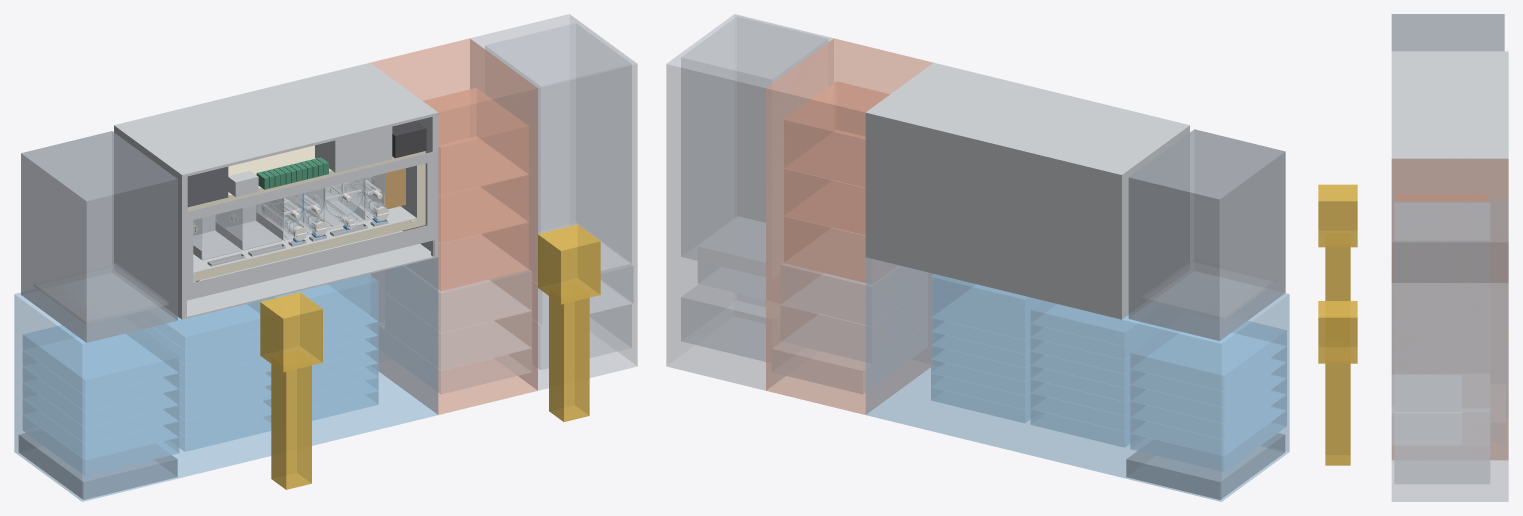
File: hat_v8.glb
The picture shows the model from 3 angles, left to right: view 1: azimuth 30°, elevation 25°; view 2: azimuth 150°, elevation 25°; view 3: azimuth 270°, elevation 25°; orthographic projection. The views are drawn at different scales.
Visible parts, largest first — view 1: B_KABIN, TOPPING_MODUL__sac, D_KABIN, E_KABIN, PRESS, E_SARJOR, FIRIN_3, CEK_K1_hamur_6, B_SOGUTMA, ROBOT_2, ROBOT_1, TOPPING_MODUL__pu (+41 smaller); view 2: B_KABIN, TOPPING_MODUL__sac, D_KABIN, E_KABIN, PRESS, E_SARJOR, FIRIN_3, CEK_K1_hamur_6, B_SOGUTMA, E_MEK, PRESS_PLAKA, CEK_K3_icecek_1 (+25 smaller); view 3: E_KABIN, TOPPING_MODUL__sac, E_SARJOR, D_KABIN, E_MEK, PRESS, ROBOT_2, ROBOT_1_KOL, ROBOT_2_KOL, E_AGZ, ROBOT_1, FIRIN_3.
Boxes of the visible parts, <box> form: B_KABIN: <box>14,257,438,501</box>; TOPPING_MODUL__sac: <box>114,62,438,319</box>; D_KABIN: <box>370,38,537,414</box>; E_KABIN: <box>470,14,637,390</box>; PRESS: <box>21,131,177,342</box>; E_SARJOR: <box>485,23,631,270</box>; FIRIN_3: <box>423,88,528,195</box>; CEK_K1_hamur_6: <box>23,325,178,395</box>; B_SOGUTMA: <box>18,429,177,499</box>; ROBOT_2: <box>549,283,589,421</box>; ROBOT_1: <box>271,351,311,489</box>; TOPPING_MODUL__pu: <box>187,145,425,281</box>; B_KABIN: <box>865,257,1289,501</box>; TOPPING_MODUL__sac: <box>865,62,1189,319</box>; D_KABIN: <box>766,38,933,414</box>; E_KABIN: <box>666,14,833,390</box>; PRESS: <box>1128,129,1285,340</box>; E_SARJOR: <box>681,16,827,277</box>; FIRIN_3: <box>784,81,889,187</box>; CEK_K1_hamur_6: <box>1130,321,1286,391</box>; B_SOGUTMA: <box>1126,429,1285,499</box>; E_MEK: <box>681,284,765,361</box>; PRESS_PLAKA: <box>1141,259,1275,320</box>; CEK_K3_icecek_1: <box>931,274,1042,339</box>; E_KABIN: <box>1391,200,1508,501</box>; TOPPING_MODUL__sac: <box>1391,51,1508,282</box>; E_SARJOR: <box>1394,203,1489,411</box>; D_KABIN: <box>1392,158,1508,459</box>; E_MEK: <box>1394,412,1489,483</box>; PRESS: <box>1391,14,1504,51</box>; ROBOT_2: <box>1325,363,1350,465</box>; ROBOT_1_KOL: <box>1318,184,1357,247</box>; ROBOT_2_KOL: <box>1318,301,1357,363</box>; E_AGZ: <box>1392,375,1461,444</box>; ROBOT_1: <box>1325,234,1350,300</box>; FIRIN_3: <box>1397,195,1487,200</box>.
Bounding box in the file's own units: 3.9 × 2.03 × 1.35.
